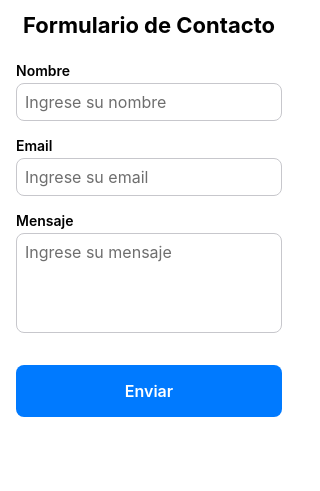
Test: Form Component › Input Handling › clears error when user starts typing
The width and height of the screenshot is (320, 491).
// Trigger validation error
Click the element with test id "submit-button" at (149, 391), box [16,365,282,417]
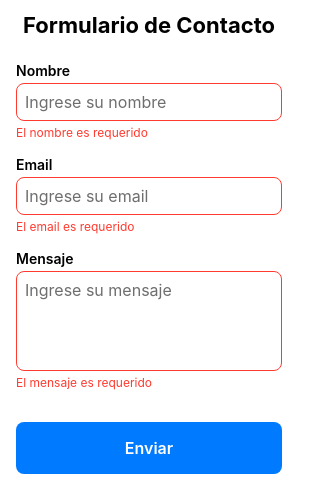
Check: the text "El nombre es requerido" is shown, box [16,125,148,140]
// Start typing in the name field
Type "J" into the field with test id "name-input" at (149, 102), box [16,83,282,121]
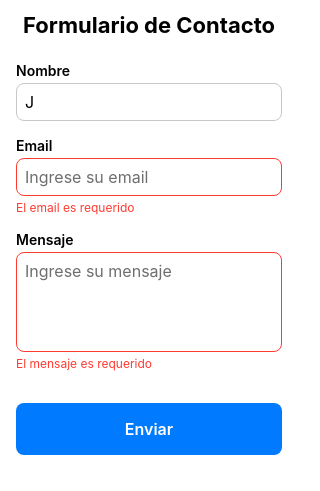
Check: the text with test id "name-error" is gone
